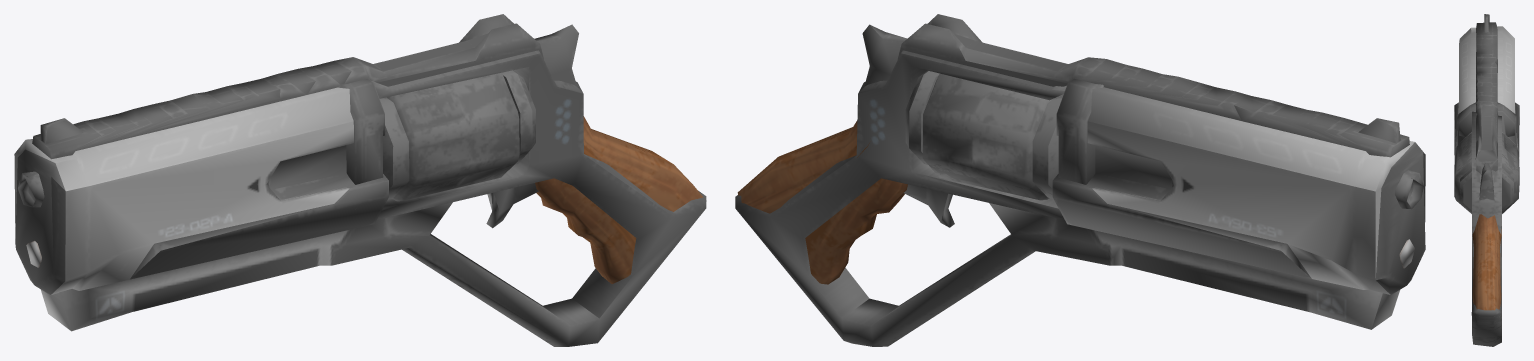
The model's file is DZ_Gun_Revolver.fbx.
3 views of the same model, side by side, from view 1: azimuth 30°, elevation 25°; view 2: azimuth 150°, elevation 25°; view 3: azimuth 270°, elevation 25° (orthographic). The views are drawn at different scales.
Parts seen in each view (by area): view 1: Gun_Revolver, Gun_Revolver_Barrel; view 2: Gun_Revolver, Gun_Revolver_Barrel; view 3: Gun_Revolver, Gun_Revolver_Barrel.
Boxes of the visible parts, bbox=[...] form: Gun_Revolver: bbox=[14, 14, 706, 346]; Gun_Revolver_Barrel: bbox=[379, 70, 535, 201]; Gun_Revolver: bbox=[735, 14, 1425, 346]; Gun_Revolver_Barrel: bbox=[905, 70, 1063, 200]; Gun_Revolver: bbox=[1454, 14, 1519, 346]; Gun_Revolver_Barrel: bbox=[1454, 132, 1519, 213].
Bounding box in the file's own units: 0.5307 × 0.2617 × 0.0816.
